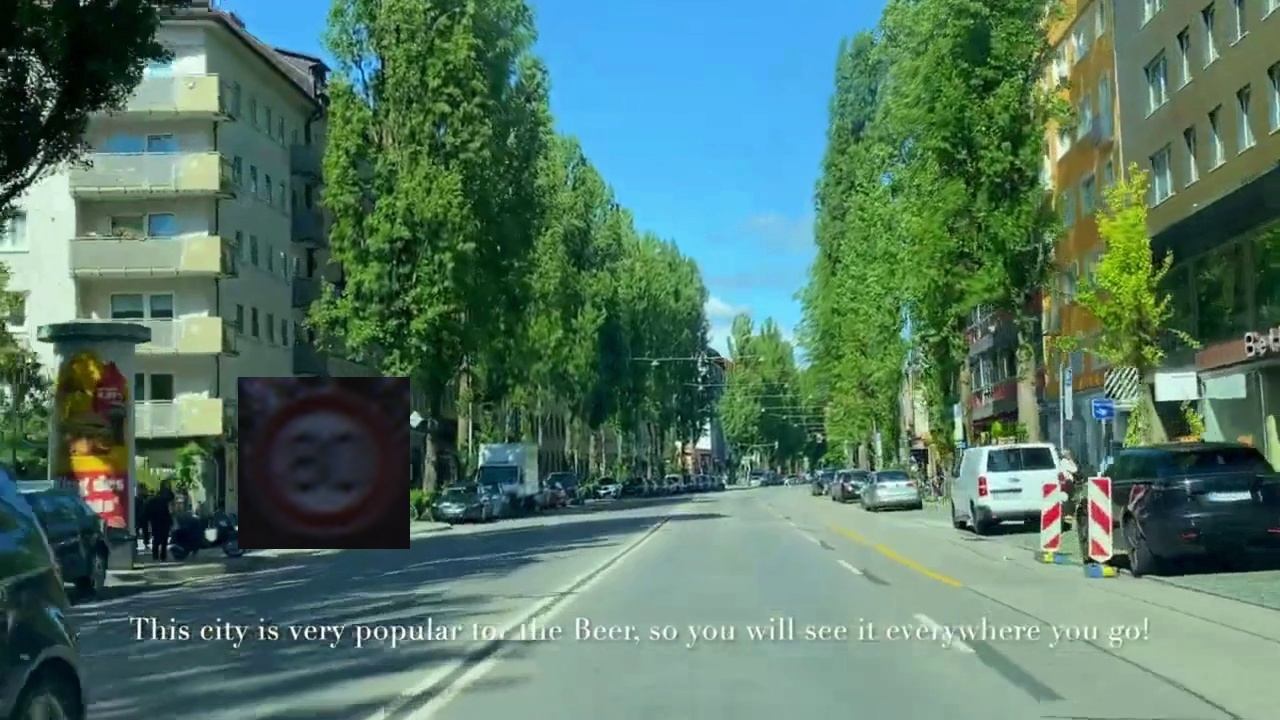Speed 80: (238, 377, 410, 549)
